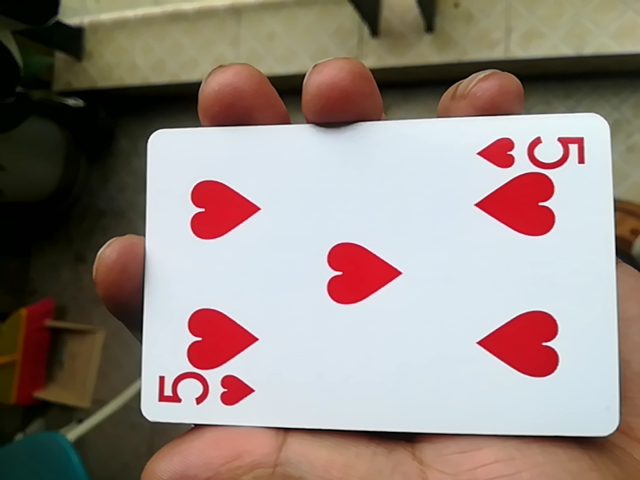hx 5: (127, 115, 611, 446)
